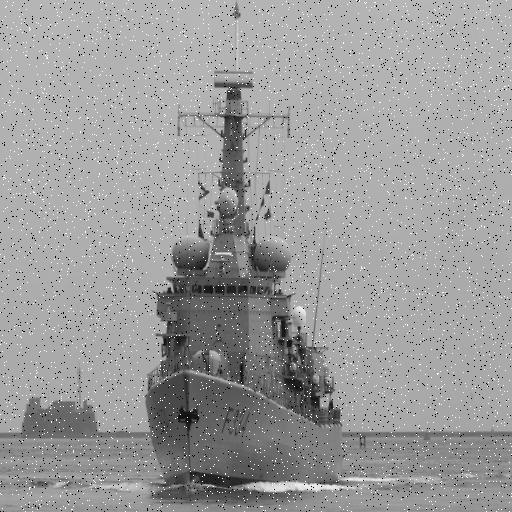Fragata: (147, 5, 349, 493)
